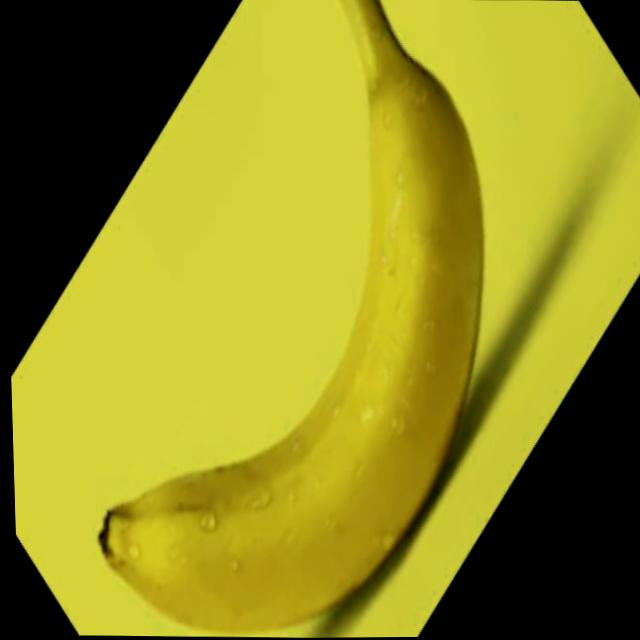Banana: (78, 0, 496, 640)
